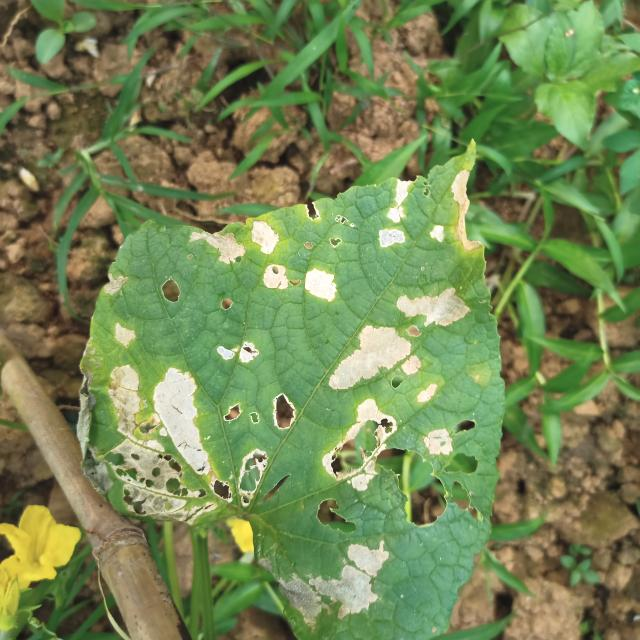disease_cucumber: (188, 201, 531, 408), (76, 268, 295, 527), (260, 387, 476, 636)
